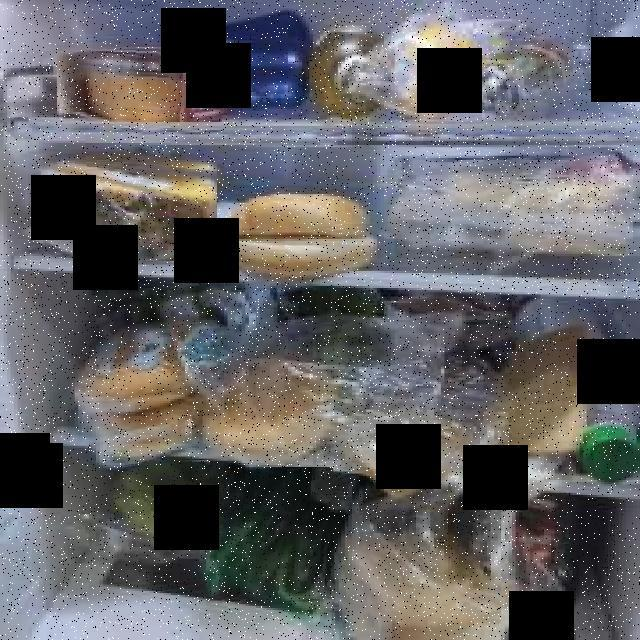asparagus: (455, 35, 601, 121)
bread: (327, 510, 501, 640)
green_beans: (206, 467, 334, 606)
humus: (57, 44, 227, 122)
pineapple: (35, 155, 217, 261)
salad: (114, 457, 210, 558)
